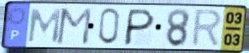0: (97, 7, 121, 47)
8: (164, 7, 192, 49)
M: (54, 7, 94, 46), (25, 7, 63, 44)
P: (121, 8, 157, 47)
R: (189, 8, 224, 49)
